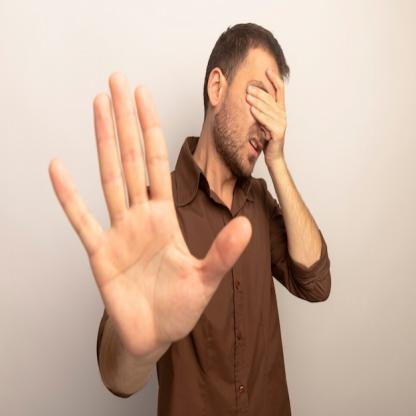stop: (40, 66, 254, 361)
